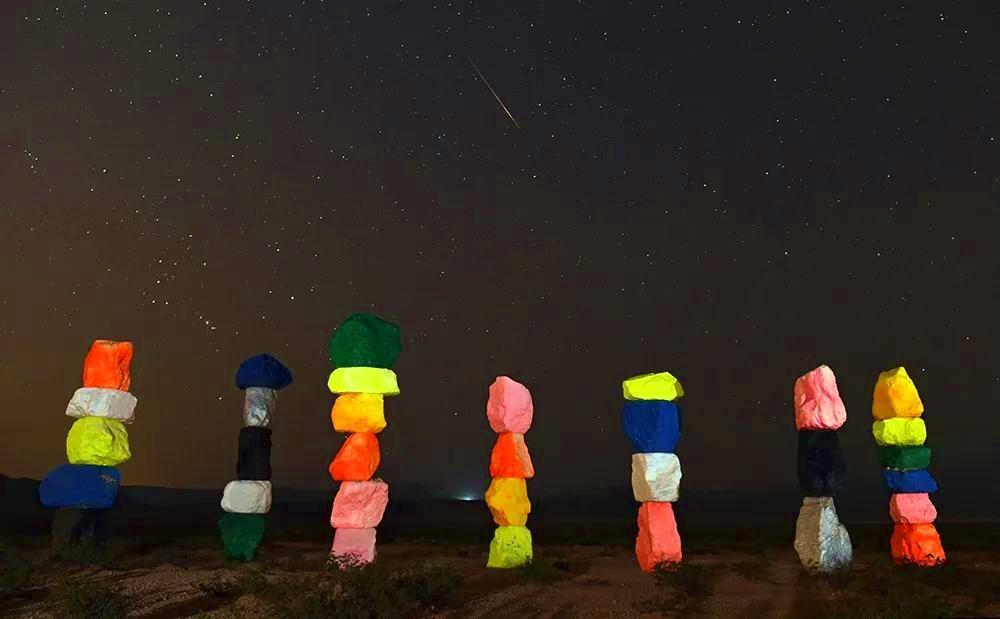meteorite: (459, 59, 536, 139)
